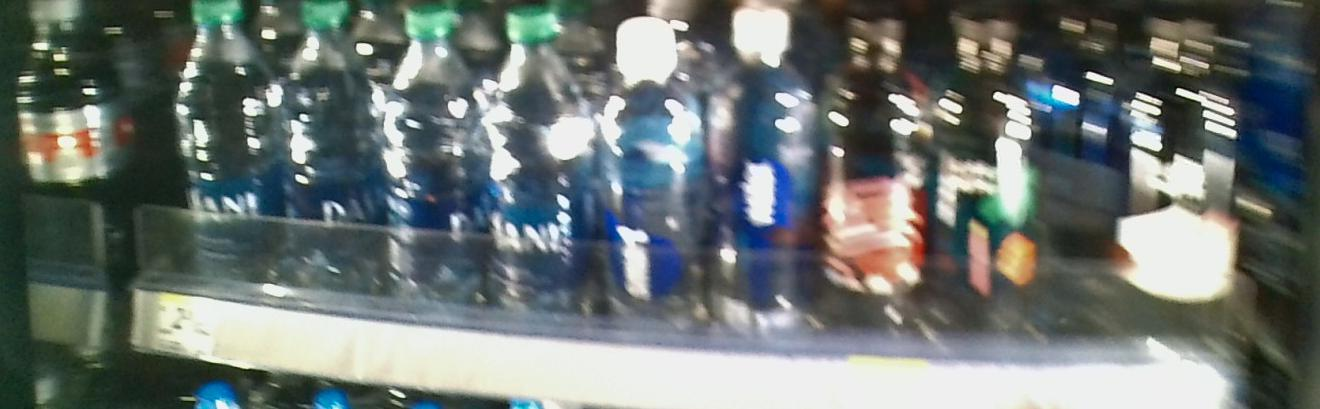bottle: (606, 10, 713, 342), (939, 16, 1046, 343), (829, 14, 931, 351), (722, 7, 822, 343), (386, 11, 490, 322), (174, 4, 281, 302), (495, 16, 594, 332), (287, 3, 376, 312)
